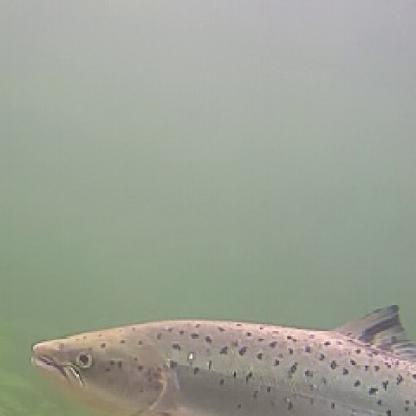salmon: (23, 298, 414, 414)
